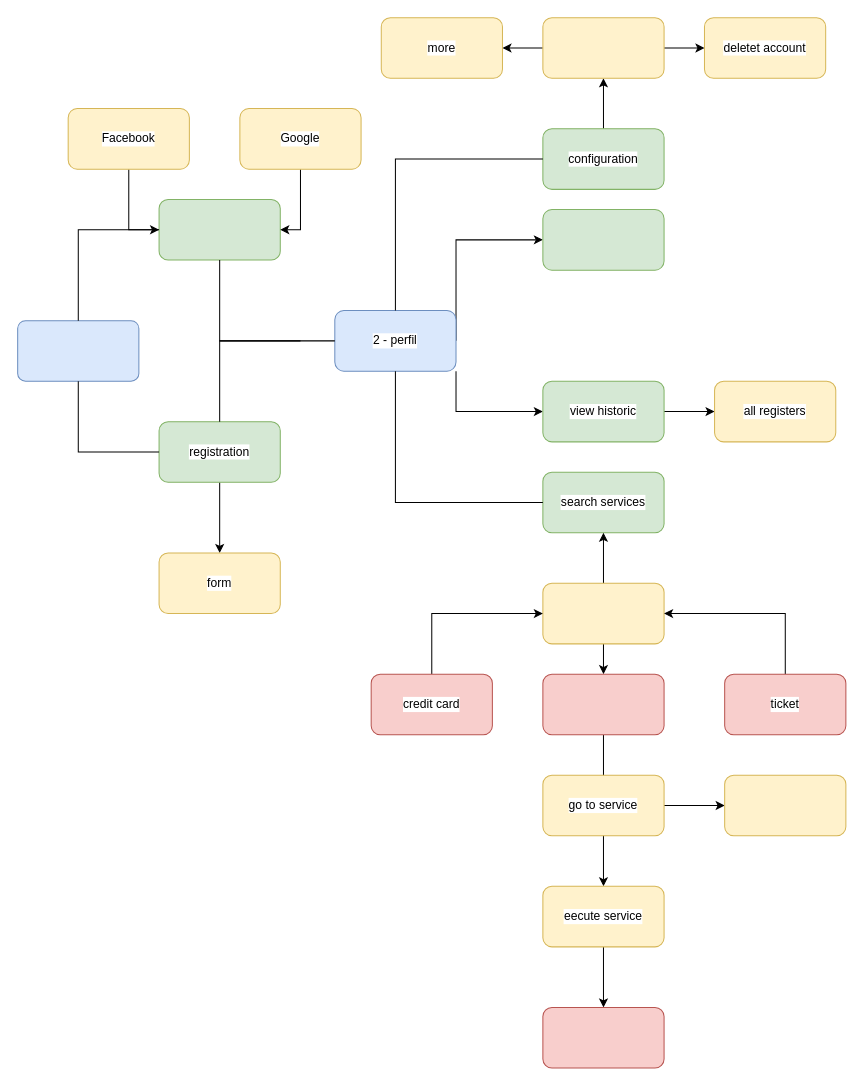
This 864x1086 diagram has some shape labels left out. Here are the shapes that lost their labels. From the top down, the centre of each, then its label:
At pixel 603 47: "edit account".
At pixel 219 229: "authenticate".
At pixel 603 239: "support".
At pixel 78 350: "1 - users".
At pixel 603 613: "payment".
At pixel 603 704: "pix".
At pixel 785 805: "chat".
At pixel 603 1037: "classificate".
